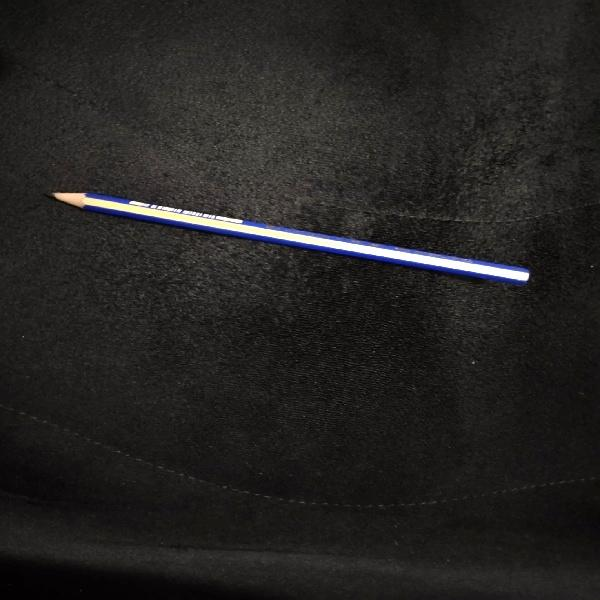pencil: (39, 183, 540, 290)
